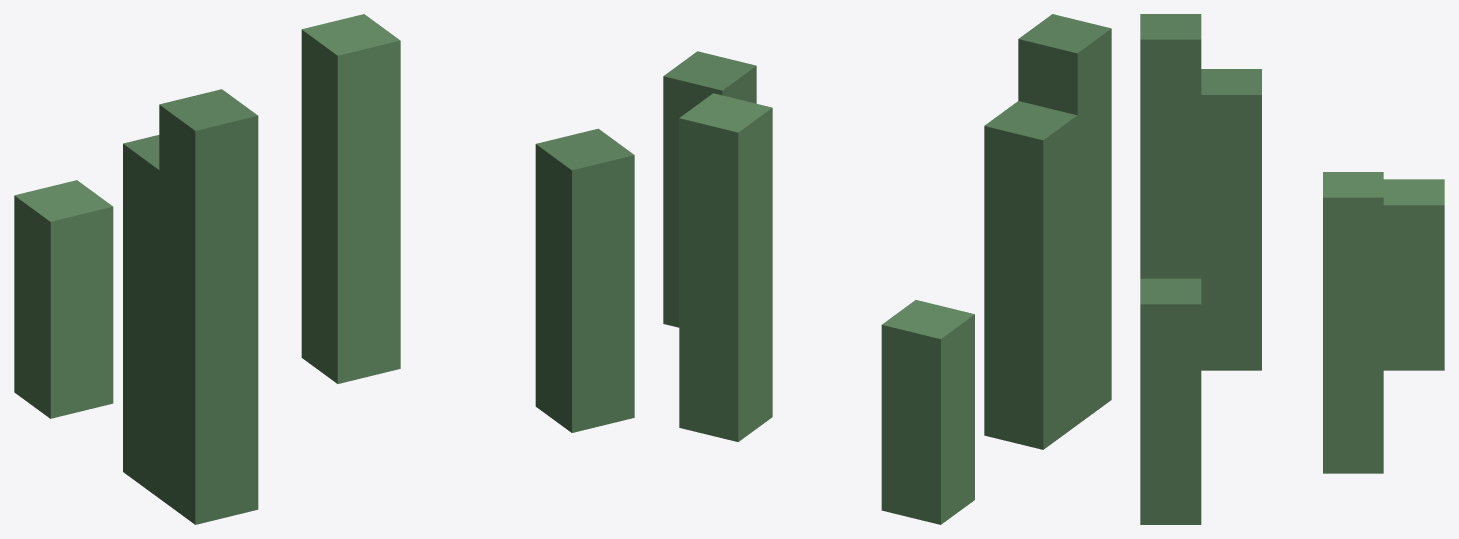
The model's file is enredadera_04.glb.
3 views of the same model, side by side, from view 1: azimuth 30°, elevation 25°; view 2: azimuth 150°, elevation 25°; view 3: azimuth 270°, elevation 25° (orthographic). The views are drawn at different scales.
Visible parts, largest first — view 1: enredadera_04; view 2: enredadera_04; view 3: enredadera_04.
Part boxes in pixels (left/top/right/bottom): enredadera_04: left=14, top=14, right=634, bottom=524; enredadera_04: left=663, top=14, right=1111, bottom=524; enredadera_04: left=1140, top=14, right=1444, bottom=524.
Bounding box in the file's own units: 0.7 × 0.6 × 0.5.
